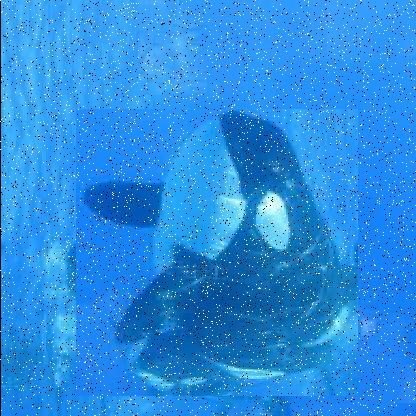killer_whale: (75, 108, 358, 396)
